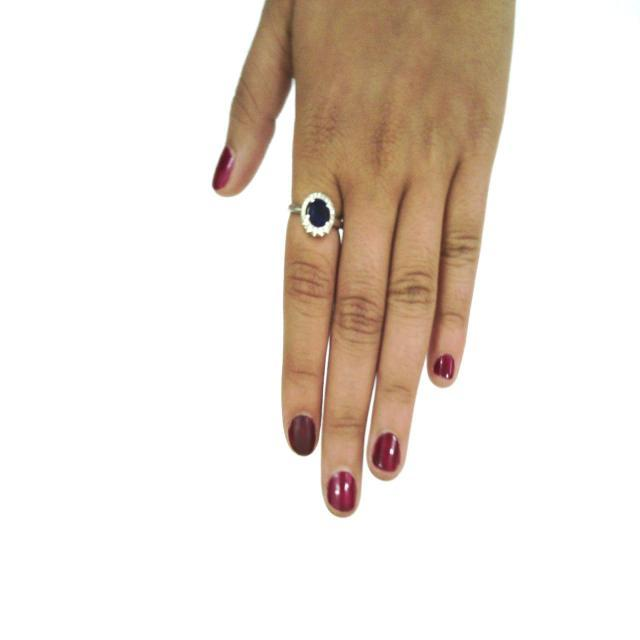Fingernail: (328, 471, 355, 513), (374, 433, 401, 470), (290, 417, 315, 455), (213, 147, 233, 189), (435, 355, 454, 379)
